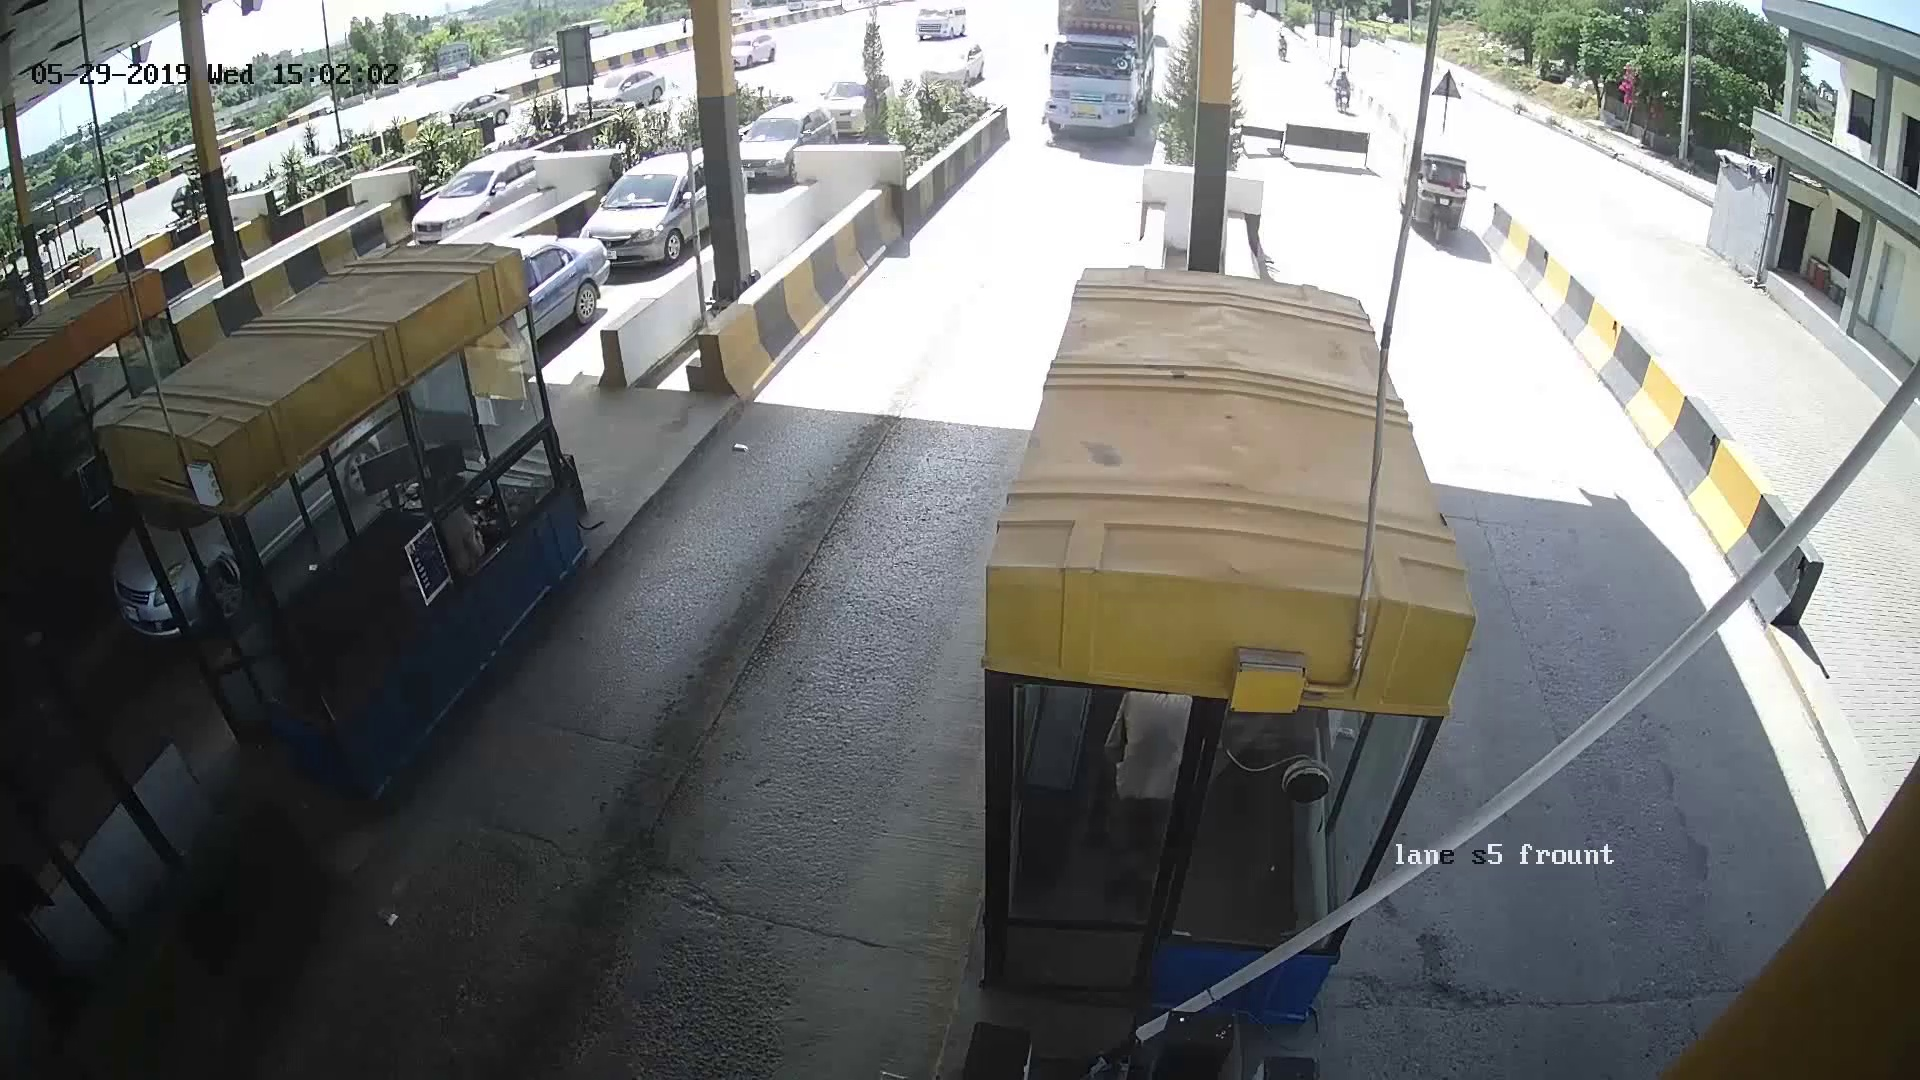truck: (1044, 7, 1167, 161)
